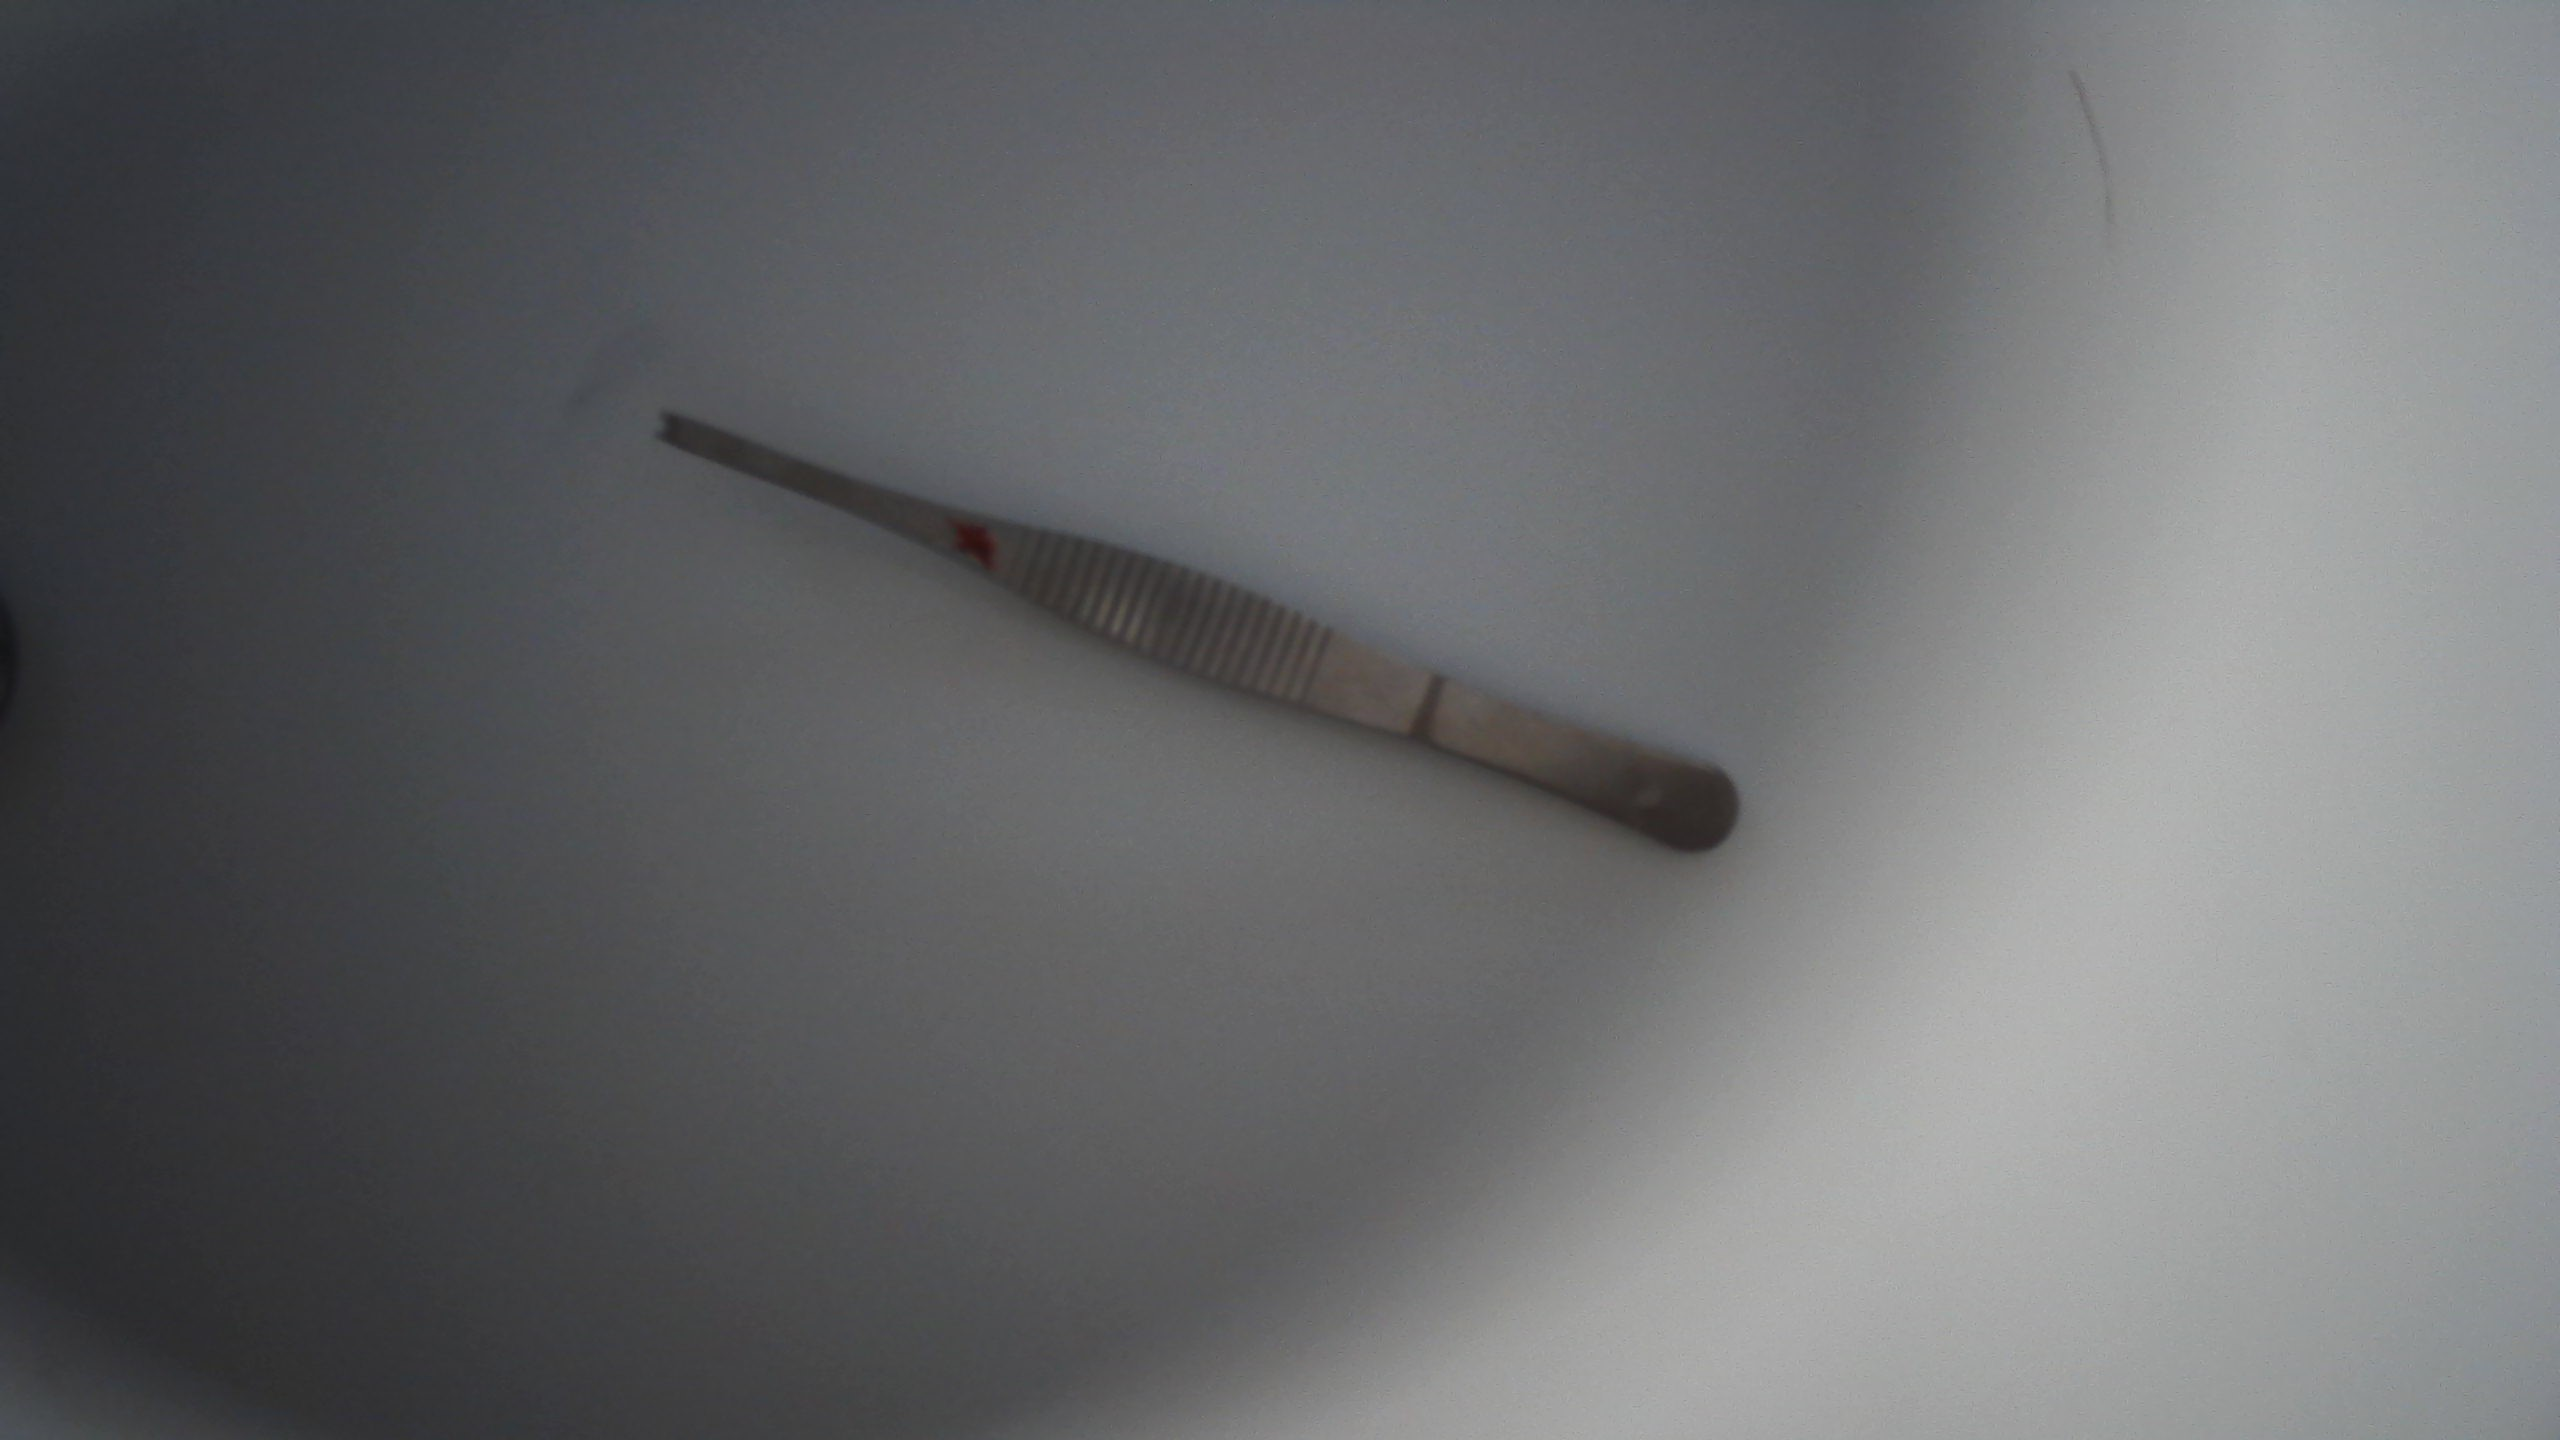Stain: (942, 512, 1004, 593)
